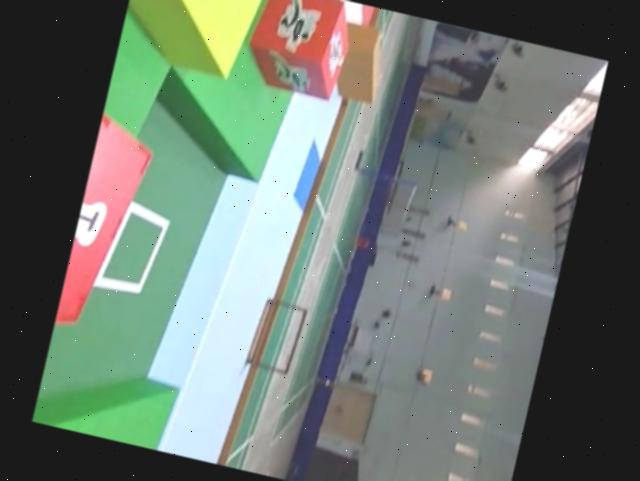R1: (241, 0, 360, 102)
